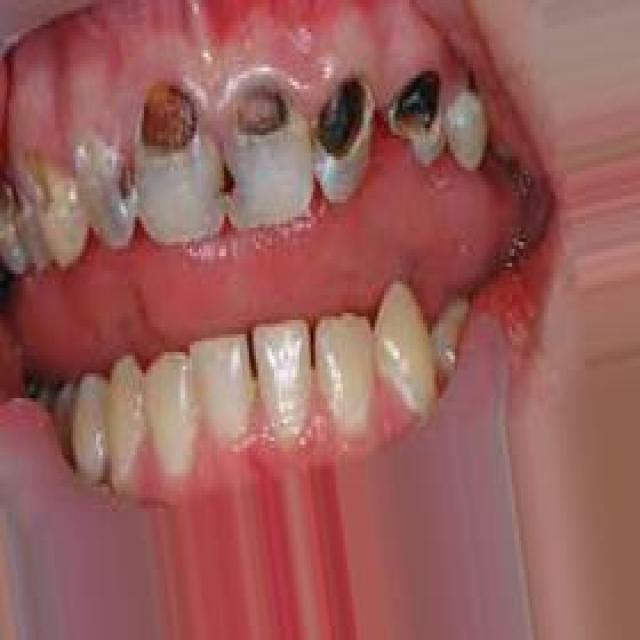caries: (304, 54, 372, 185), (131, 75, 207, 186), (219, 55, 296, 158), (74, 132, 135, 256), (390, 51, 442, 160), (33, 155, 76, 273), (22, 369, 84, 450), (448, 59, 488, 171), (434, 302, 473, 403), (2, 170, 43, 264)
